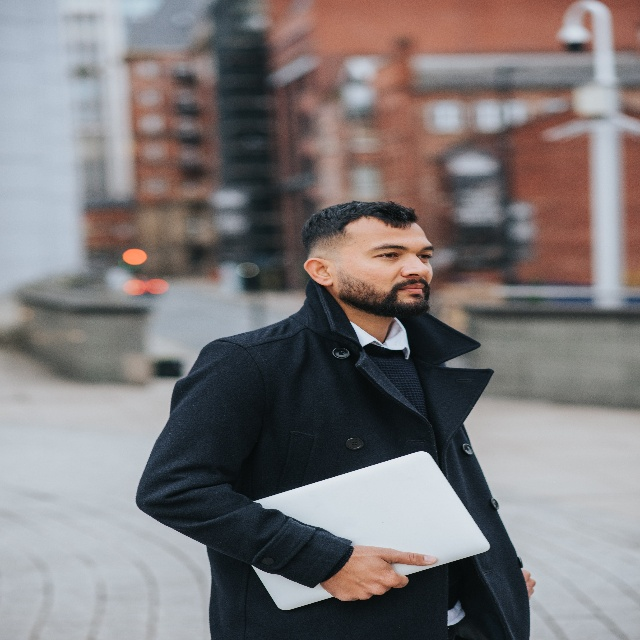Sin_guantes: (320, 528, 438, 594)
